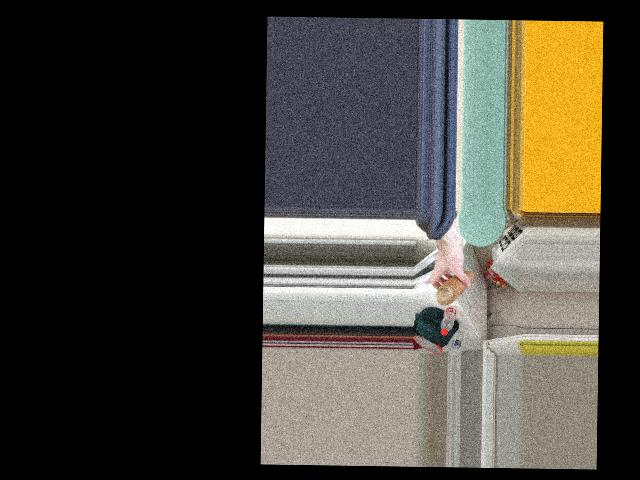sweet_potato: (432, 270, 477, 305)
